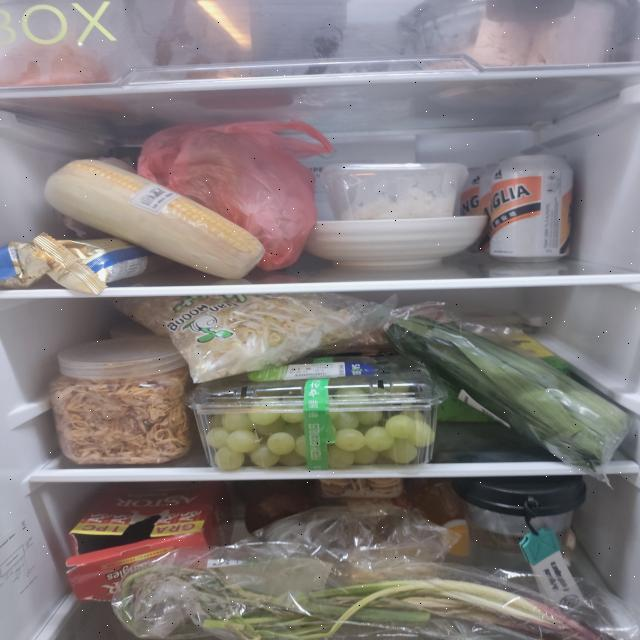bean_sprouts: (115, 292, 362, 386)
corn: (44, 159, 266, 280)
grape: (206, 374, 434, 470)
leafy_greens: (382, 314, 630, 470)
spring_onion: (118, 566, 616, 640)
